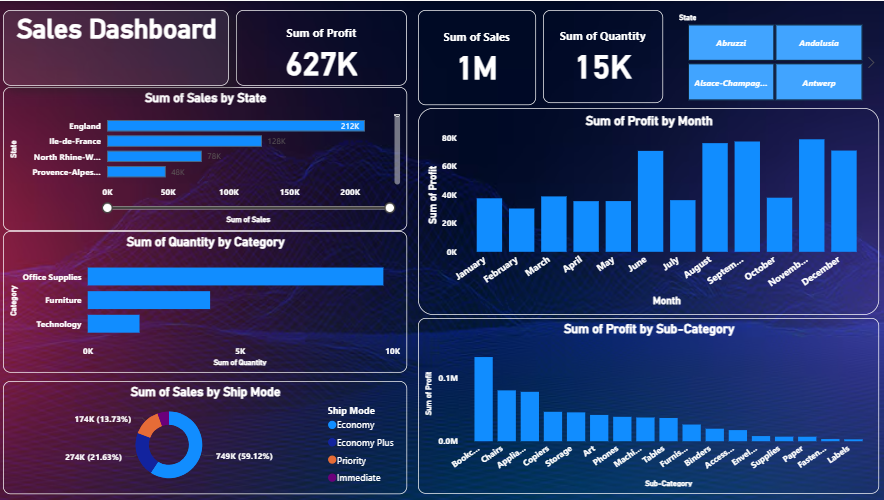

This screenshot's page, from the dashboard's own definition file:
{"tool":"powerbi","page":{"name":"Sales Dashboard","canvas":[1280,720],"ordinal":0},"visuals":[{"type":"barChart","fields":{"Y":["Sum(Sheet1.Sales)"],"Category":["Sheet1.State"]},"box":[0,124.3,604.7,206.6],"z":0},{"type":"barChart","fields":{"Y":["Sum(Sheet1.Quantity)"],"Category":["Sheet1.Category"]},"box":[6.7,330.9,598,204.9],"z":1000},{"type":"columnChart","fields":{"Y":["Sum(Sheet1.Profit)"],"Category":["Sheet1.Order Date.Variation.Date Hierarchy.Month"]},"box":[618.6,153.4,661.4,298.6],"z":2000},{"type":"donutChart","fields":{"Y":["Sum(Sheet1.Sales)"],"Category":["Sheet1.Ship Mode"]},"box":[6.7,547.6,582.9,173],"z":3000},{"type":"columnChart","fields":{"Y":["Sum(Sheet1.Profit)"],"Category":["Sheet1.Sub-Category"]},"box":[604.7,456.9,663.5,263.7],"z":4000},{"type":"cardVisual","fields":{"Data":["Sum(Sheet1.Profit)"]},"box":[343.1,0,245.8,122.1],"z":5000},{"type":"cardVisual","fields":{"Data":["Sum(Sheet1.Sales)"]},"box":[605.4,0,197.9,150.1],"z":6000},{"type":"cardVisual","fields":{"Data":["Sum(Sheet1.Quantity)"]},"box":[816.5,0,201.2,153.4],"z":7000},{"type":"slicer","fields":{"Values":["Sheet1.State"]},"box":[1001.2,0,278.8,150.1],"z":8000},{"type":"textbox","title":"Sales Dashboard","box":[6.6,13.2,336.5,108.9],"z":9000}]}

Visuals, with their boxes in screenshot pixels (x1, y1, x2, y2), scaled from the page's 1280x720 canvas onto the 884x500 screenshot:
barChart - Sum(Sheet1.Sales) x Sheet1.State: 0 86 418 230
barChart - Sum(Sheet1.Quantity) x Sheet1.Category: 5 230 418 372
columnChart - Sum(Sheet1.Profit) x Sheet1.Order Date.Variation.Date Hierarchy.Month: 427 107 883 314
donutChart - Sum(Sheet1.Sales) x Sheet1.Ship Mode: 5 380 407 499
columnChart - Sum(Sheet1.Profit) x Sheet1.Sub-Category: 418 317 876 499
cardVisual - Sum(Sheet1.Profit): 237 0 407 85
cardVisual - Sum(Sheet1.Sales): 418 0 555 104
cardVisual - Sum(Sheet1.Quantity): 564 0 703 107
slicer - Sheet1.State: 691 0 883 104
"Sales Dashboard" textbox: 5 9 237 85
